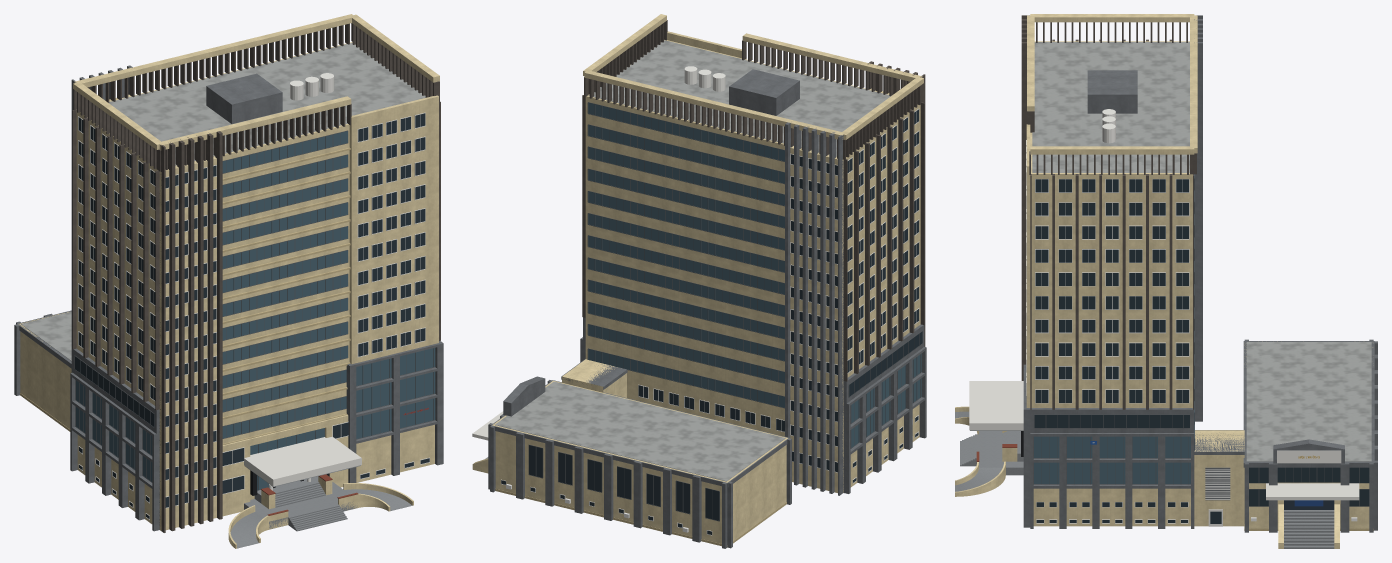
The picture shows the model from 3 angles, left to right: view 1: azimuth 30°, elevation 25°; view 2: azimuth 150°, elevation 25°; view 3: azimuth 270°, elevation 25°; orthographic projection. The views are drawn at different scales.
Parts seen in each view (by area): view 1: HD; view 2: HD; view 3: HD.
Boxes of the visible parts, box(x1,y1,x2,y2) form: HD: box(14, 14, 443, 548); HD: box(472, 14, 926, 548); HD: box(955, 14, 1377, 548).
Size of what is drawn, in the model's own units: 52.2 by 58.2 by 58.99.
Materials: 22 (8 with a texture image).
